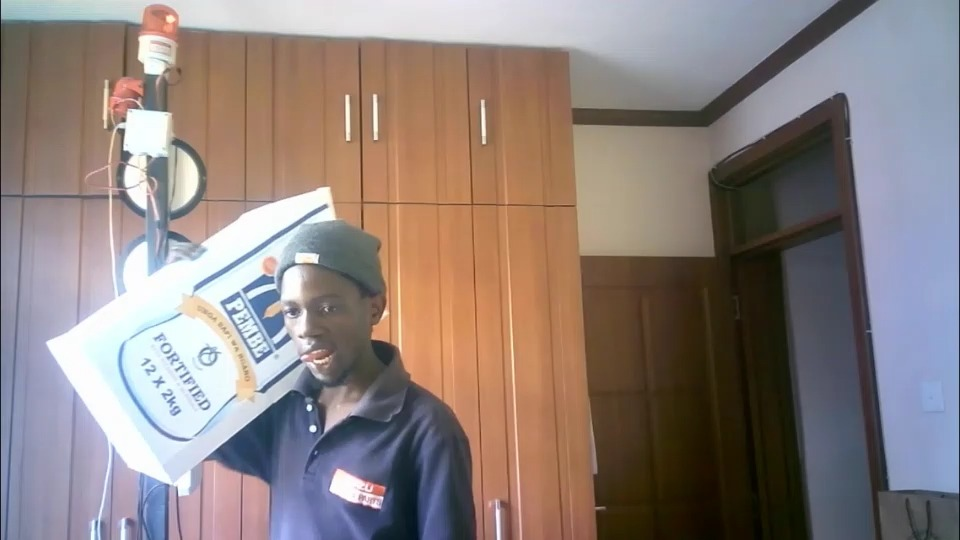wheat_flour_blue_label: (43, 188, 353, 484)
